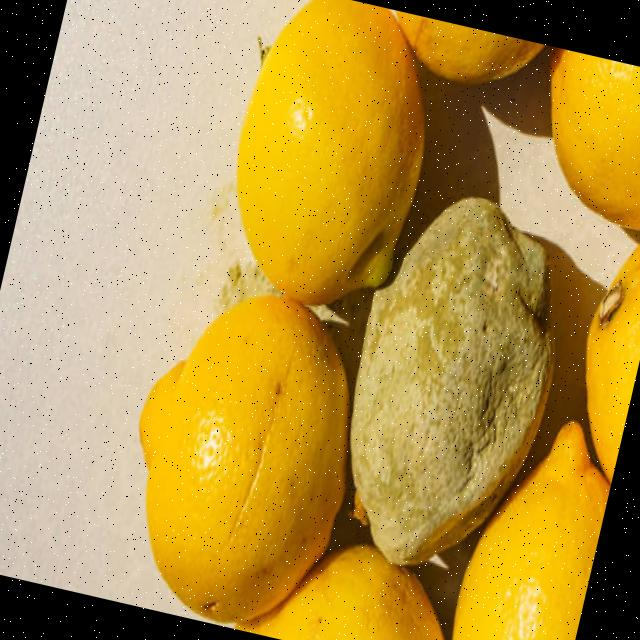Ripe: (206, 0, 453, 324)
Rotten: (313, 175, 587, 592)
